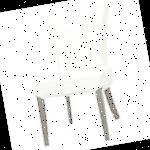Silla: (19, 3, 133, 149)
